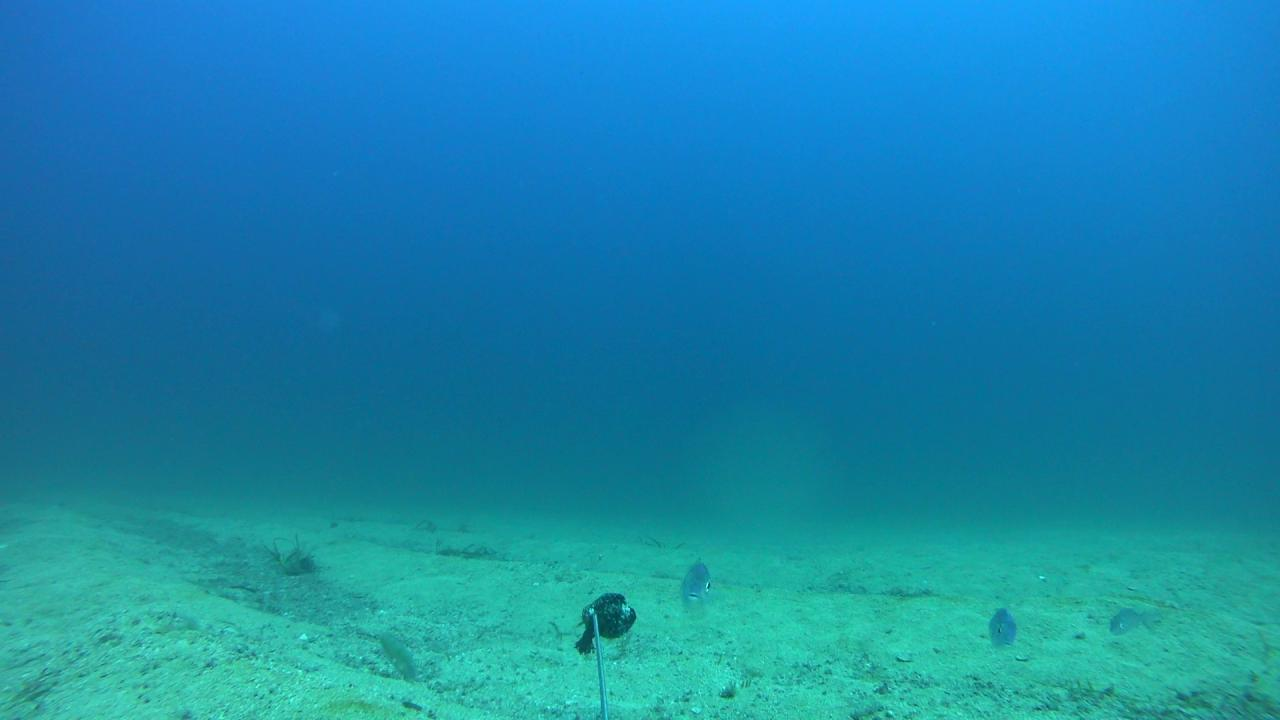pagellus: (679, 559, 710, 605), (987, 606, 1017, 650), (1108, 607, 1151, 634)
raor: (367, 633, 420, 678)
